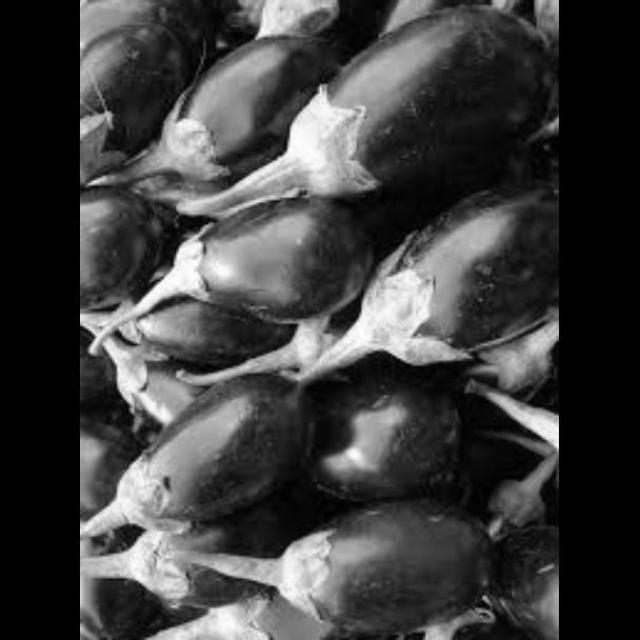ca tim: (298, 152, 558, 404), (247, 1, 534, 220), (84, 360, 330, 554), (240, 466, 508, 634), (126, 25, 348, 198), (105, 188, 354, 328), (290, 344, 493, 510), (89, 496, 298, 622), (100, 269, 312, 386), (80, 0, 188, 168), (80, 172, 168, 324)
